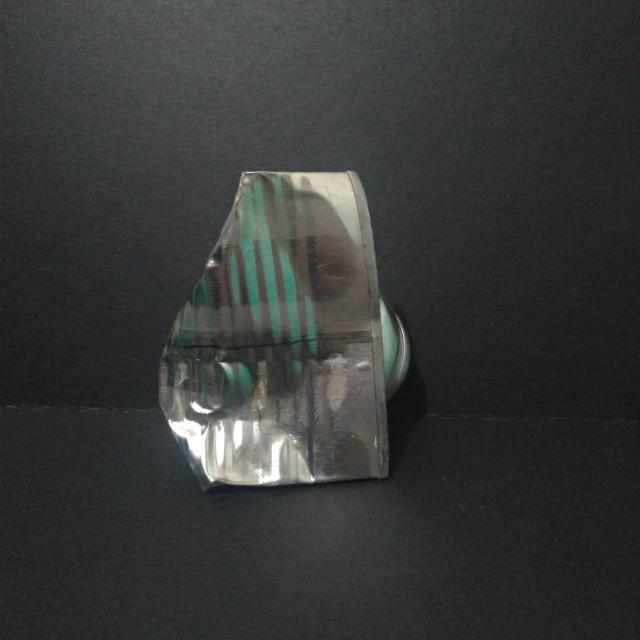metal-can: (153, 167, 417, 490)
